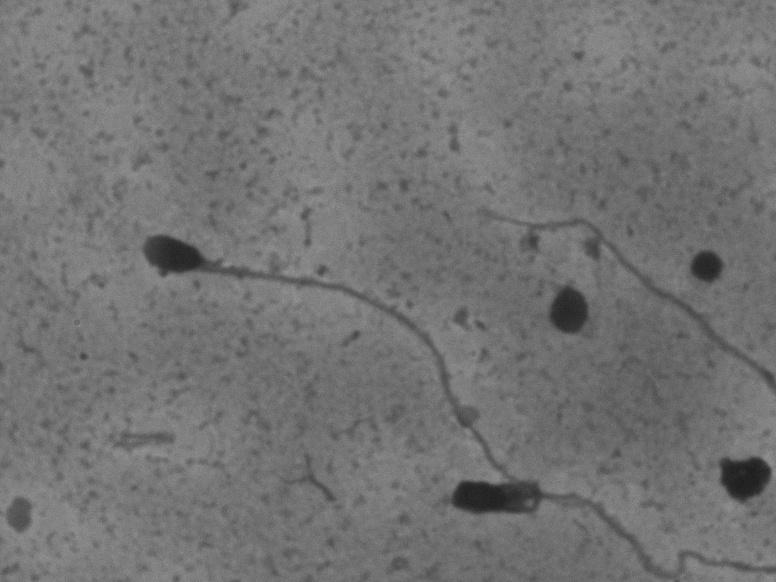Normal: (123, 213, 640, 562)
